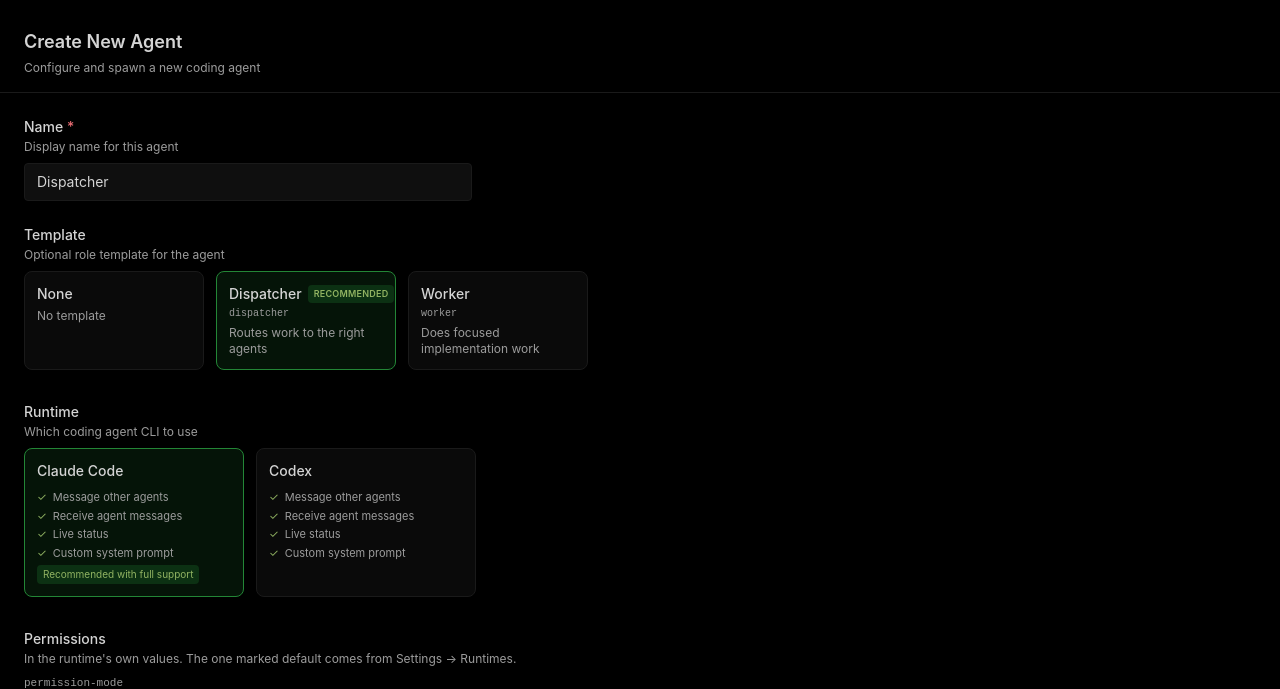
Test: CreateAgentPanel › Codex: its launch axes only — Plan is a Shift+Tab hint, not an option
Click the text "Codex" at (291, 471), box [269,461,312,481]
(page scrolled)
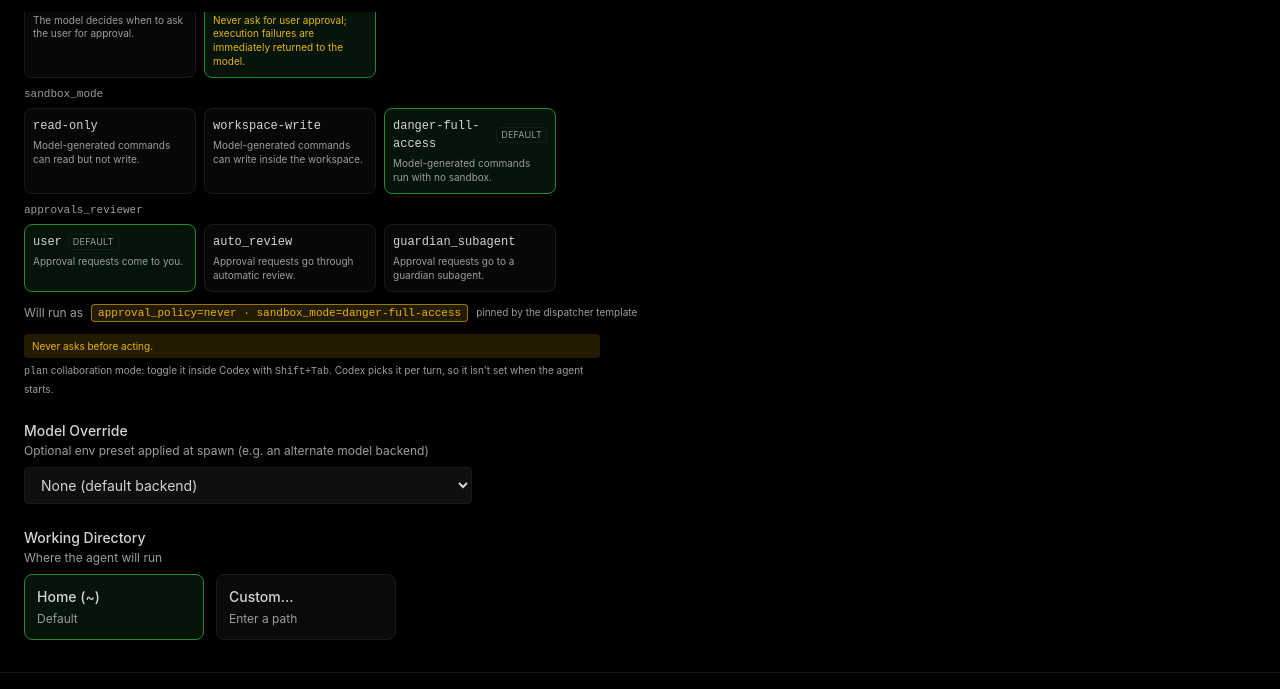
Check: the text "sandbox_mode" is shown, box [24,86,103,102]
Check: the text "approvals_reviewer" is shown, box [24,202,143,218]
Check: the text "Shift+Tab" is shown, box [275,366,329,377]
